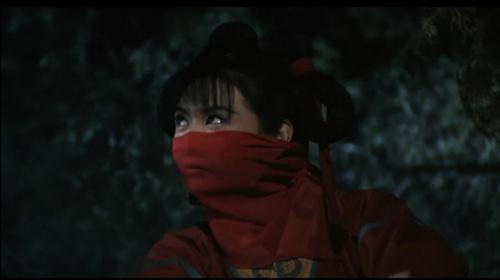OK: (169, 104, 255, 192)
